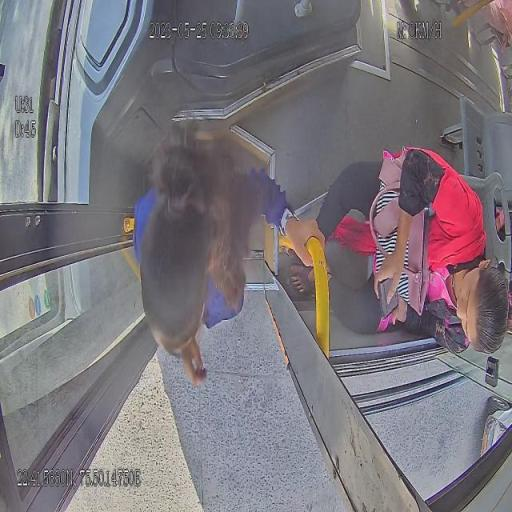persona: (132, 129, 332, 389), (280, 145, 510, 358)
